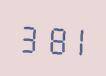eight: (41, 19, 62, 56)
one: (63, 20, 84, 57)
three: (18, 18, 39, 55)
